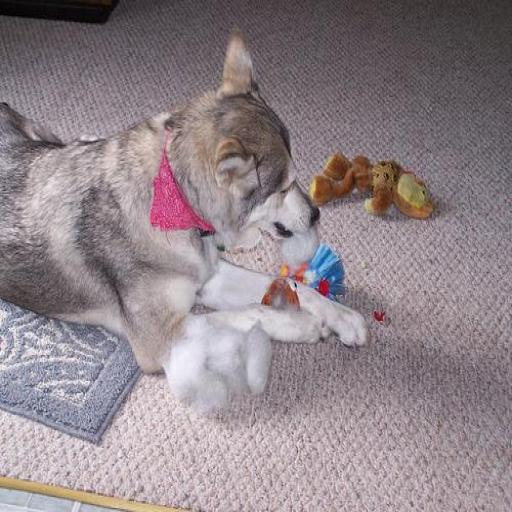dog_face: (203, 42, 323, 245)
